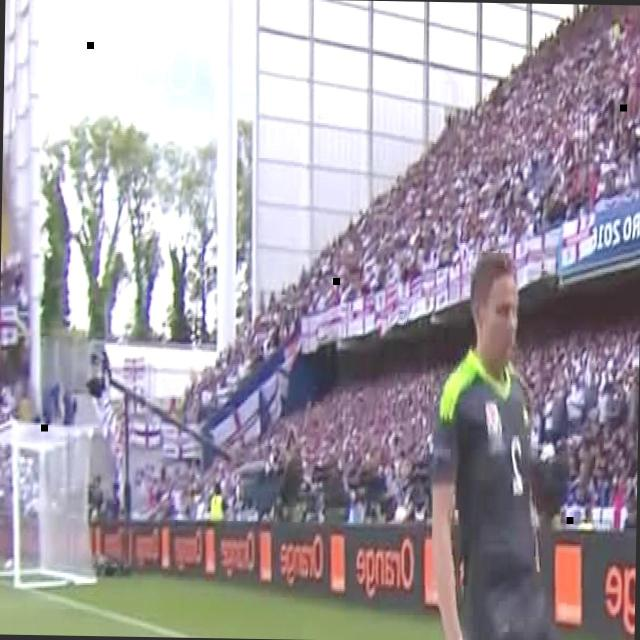player-white: (426, 252, 640, 640)
